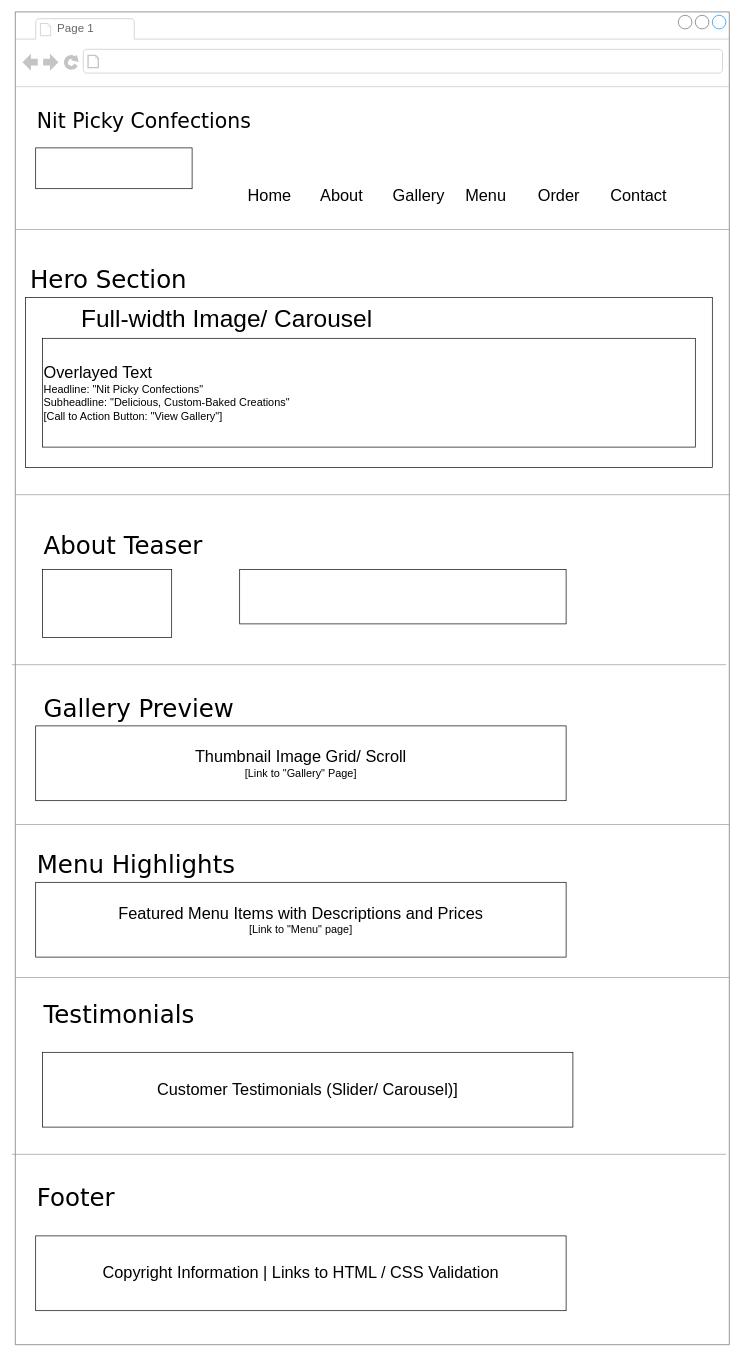
Image size: 741x1357. Some labels were removed from this diagram. Here are the shapes that lost their labels. From the top down, the centre of each, then its label:
[188,61]: https://www.default.com
[113,168]: Logo
[107,603]: Image
[402,596]: Brief Text About Nit Picky Confections [Link to "About" Page]
